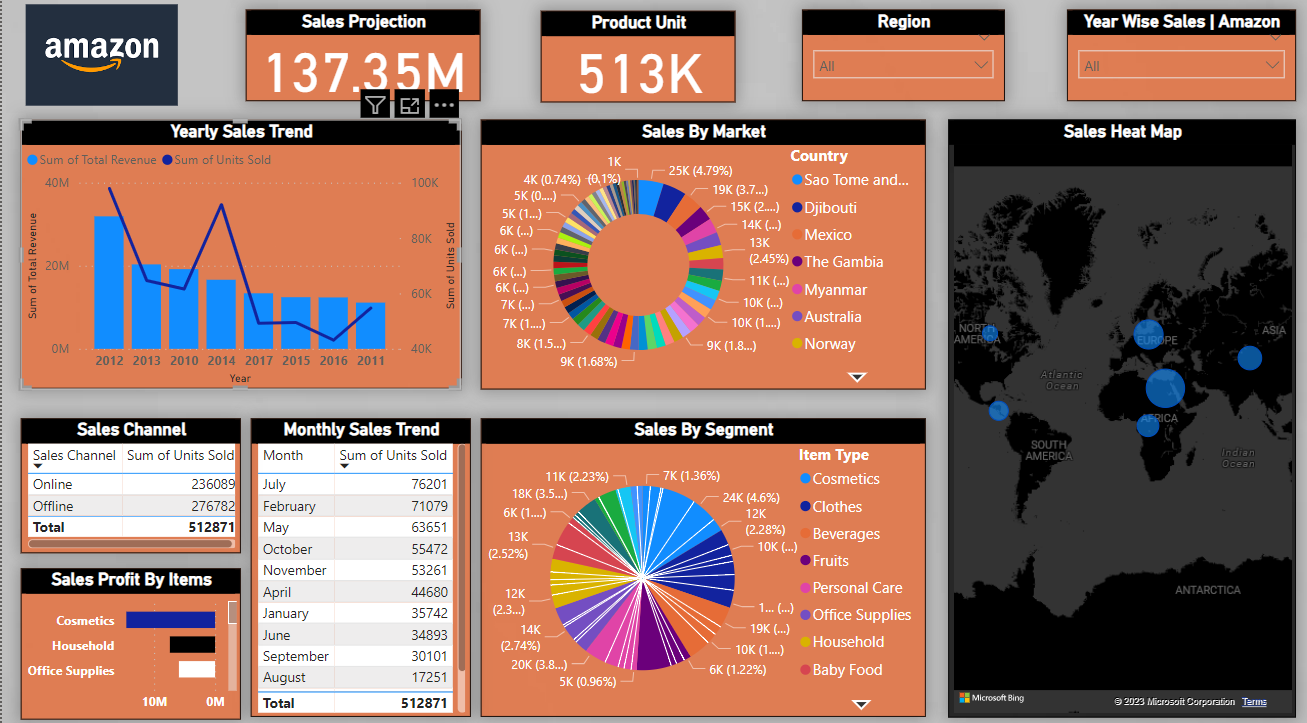

The page's visual inventory and layout, read from the dashboard file:
{"tool":"powerbi","page":{"name":"Page 1","canvas":[1280,720],"ordinal":0},"visuals":[{"type":"slicer","title":"Year Wise Sales | Amazon ","fields":{"Values":["Amazon Sales data.Year"]},"box":[1041.5,17.1,223.7,89.2],"z":0},{"type":"card","title":"Sales Projection","fields":{"Values":["Sum(Amazon Sales data.Total Revenue)"]},"box":[238.4,17.1,229.8,89.2],"z":1000},{"type":"image","box":[18.3,0,158.9,123.5],"z":2000},{"type":"card","title":"Product Unit","fields":{"Values":["Sum(Amazon Sales data.Units Sold)"]},"box":[526.9,18.3,190.7,89.2],"z":3000},{"type":"slicer","title":"Region","fields":{"Values":["Amazon Sales data.Region"]},"box":[782.3,17.1,198,89.2],"z":4000},{"type":"pieChart","title":"Sales By Segment","fields":{"Category":["Amazon Sales data.Item Type"],"Y":["Sum(Amazon Sales data.Units Sold)"]},"box":[468.2,416.8,435.2,292.2],"z":5000},{"type":"donutChart","title":"Sales By Market","fields":{"Category":["Amazon Sales data.Country"],"Y":["Sum(Amazon Sales data.Units Sold)"]},"box":[468.2,124.7,435.2,264],"z":6000},{"type":"tableEx","title":"Monthly Sales Trend","fields":{"Values":["Amazon Sales data.Month","Sum(Amazon Sales data.Units Sold)"]},"box":[242.9,417.2,215.4,292.3],"z":7000},{"type":"stackedAreaChart","title":"Yearly Sales Trend","fields":{"Y":["Sum(Amazon Sales data.Units Sold)"],"Category":["Amazon Sales data.Year"]},"box":[17.8,124.9,430.9,263.5],"z":8000},{"type":"map","title":"Sales Heat Map","fields":{"Size":["Sum(Amazon Sales data.Units Sold)"],"Category":["Amazon Sales data.Region"]},"box":[924.9,124.9,340.3,584.6],"z":9000},{"type":"tableEx","title":"Sales Channel","fields":{"Values":["Amazon Sales data.Sales Channel","Sum(Amazon Sales data.Units Sold)"]},"box":[17.8,417.2,215.4,131.7],"z":10000},{"type":"clusteredBarChart","title":"Sales Profit By Items","fields":{"Category":["Amazon Sales data.Item Type"],"Y":["Sum(Amazon Sales data.Total Profit)"]},"box":[17.8,564,215.4,148.2],"z":10001}]}

Visuals, with their boxes in screenshot pixels (x1, y1, x2, y2), scaled from the page's 1280x720 canvas onto the 1307x723 screenshot:
"Year Wise Sales | Amazon " slicer: left=1063, top=17, right=1292, bottom=107
"Sales Projection" card: left=243, top=17, right=478, bottom=107
image: left=19, top=0, right=181, bottom=124
"Product Unit" card: left=538, top=18, right=733, bottom=108
"Region" slicer: left=799, top=17, right=1001, bottom=107
"Sales By Segment" pieChart: left=478, top=419, right=922, bottom=712
"Sales By Market" donutChart: left=478, top=125, right=922, bottom=390
"Monthly Sales Trend" tableEx: left=248, top=419, right=468, bottom=712
"Yearly Sales Trend" stackedAreaChart: left=18, top=125, right=458, bottom=390
"Sales Heat Map" map: left=944, top=125, right=1292, bottom=712
"Sales Channel" tableEx: left=18, top=419, right=238, bottom=551
"Sales Profit By Items" clusteredBarChart: left=18, top=566, right=238, bottom=715
